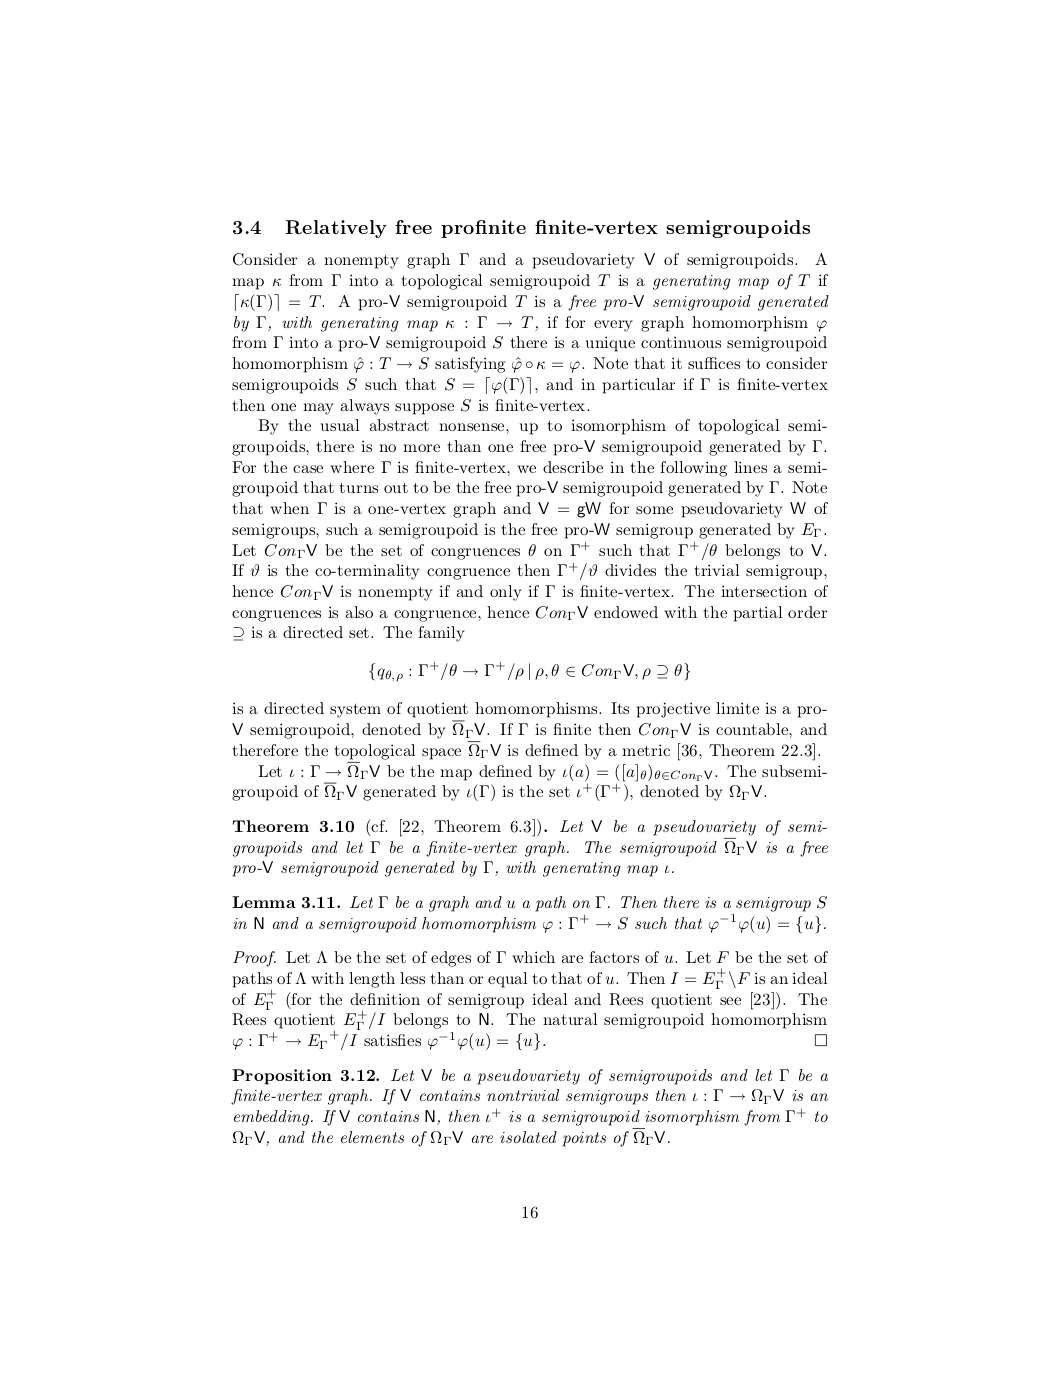formula: (369, 660, 689, 682)
